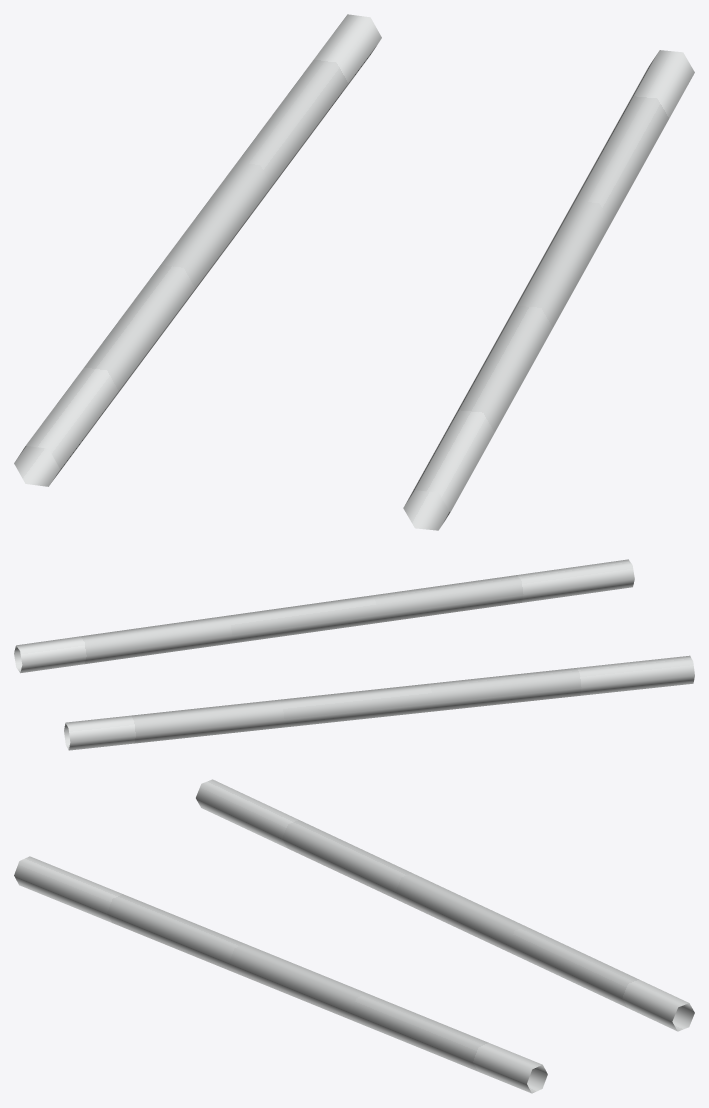
The model's file is nycsignalarm_diagonal12_c20.obj.
The picture shows the model from 3 angles, top to bottom: view 1: azimuth 30°, elevation 25°; view 2: azimuth 150°, elevation 25°; view 3: azimuth 270°, elevation 25°; orthographic projection. The views are drawn at different scales.
Visible parts, largest first — view 1: nycsignalarm_diagonal12_c20; view 2: nycsignalarm_diagonal12_c20; view 3: nycsignalarm_diagonal12_c20.
Part boxes in pixels (bbox=[...]): nycsignalarm_diagonal12_c20: bbox=[14, 14, 694, 530]; nycsignalarm_diagonal12_c20: bbox=[14, 559, 694, 750]; nycsignalarm_diagonal12_c20: bbox=[14, 779, 694, 1093].
Bounding box in the file's own units: 1.38 × 0.0696 × 1.38.
